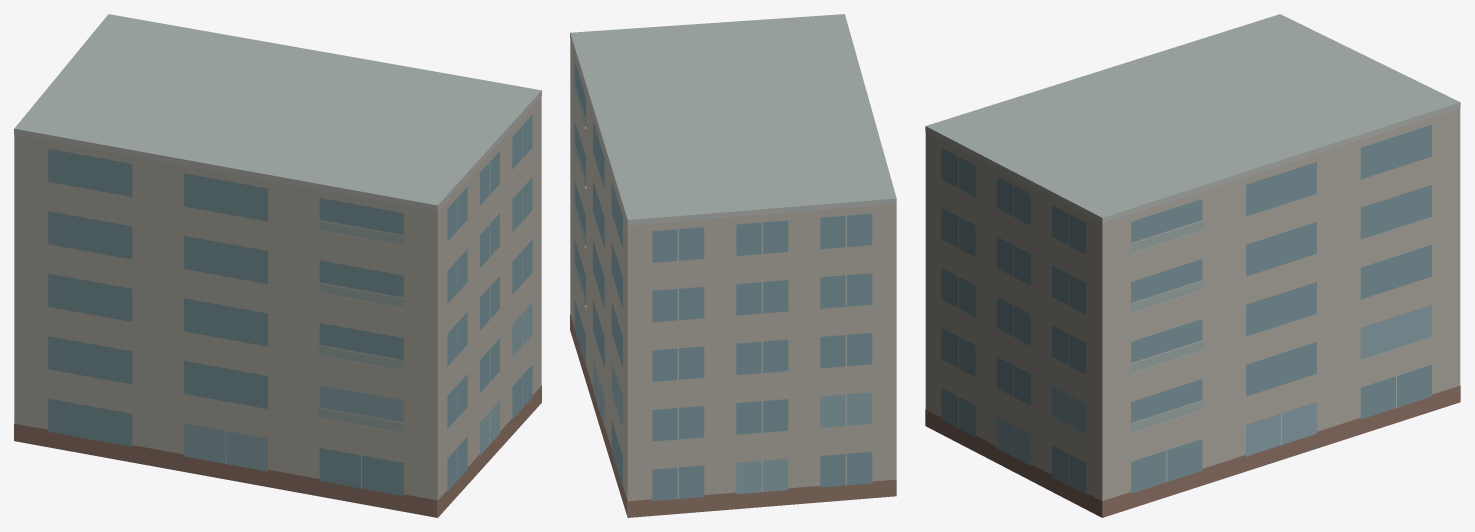
Rendered from survey-upis-32662346.glb.
3 views of the same model, side by side, from view 1: azimuth 30°, elevation 25°; view 2: azimuth 150°, elevation 25°; view 3: azimuth 270°, elevation 25° (orthographic). The views are drawn at different scales.
Visible parts, largest first — view 1: survey-upis-32662346.tmp; view 2: survey-upis-32662346.tmp; view 3: survey-upis-32662346.tmp.
Boxes of the visible parts, x1,y1,x2,y2 form: survey-upis-32662346.tmp: [14, 14, 541, 517]; survey-upis-32662346.tmp: [570, 14, 896, 517]; survey-upis-32662346.tmp: [925, 14, 1460, 517].
Bounding box in the file's own units: 19.54 × 13.4 × 21.66.
